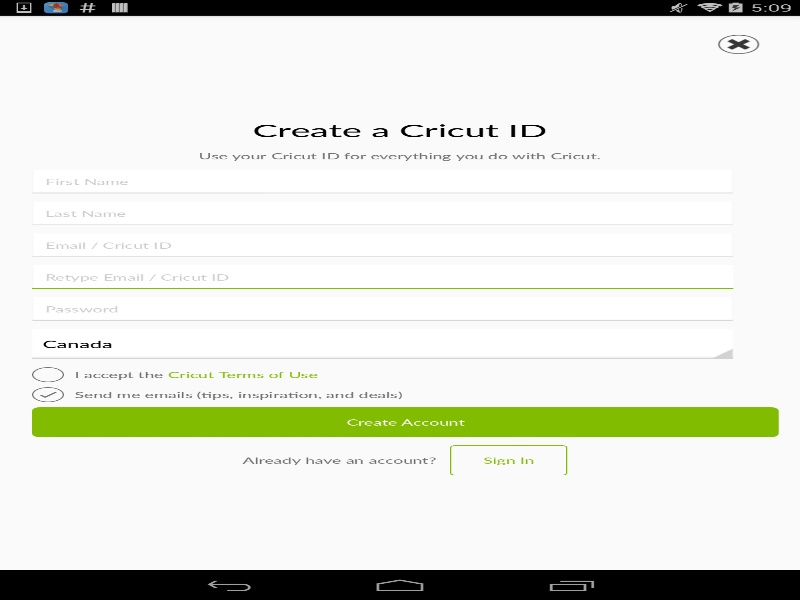Button: (32, 407, 778, 437), (450, 445, 567, 475)
Input: (32, 169, 733, 193), (32, 201, 733, 225), (32, 233, 733, 257), (32, 265, 733, 289), (32, 297, 733, 320)
